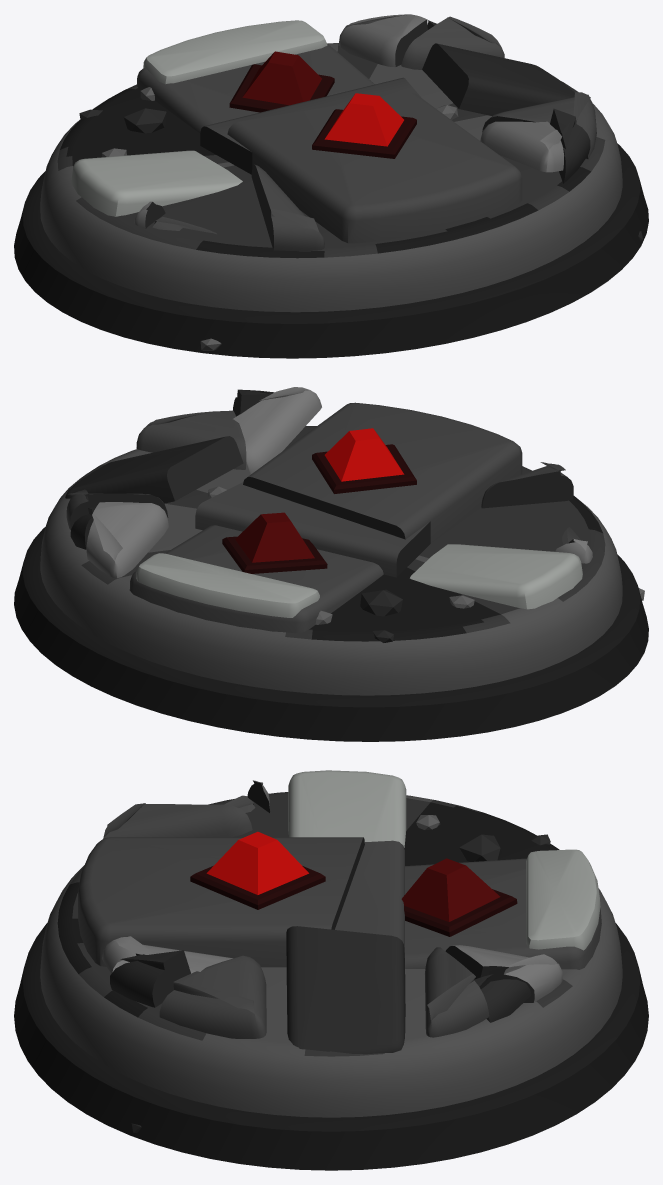
The model's file is panel_gems_wreck.glb.
3 views of the same model, one above another, from view 1: azimuth 30°, elevation 25°; view 2: azimuth 150°, elevation 25°; view 3: azimuth 270°, elevation 25° (orthographic). The views are drawn at different scales.
Parts seen in each view (by area): view 1: disc, upright, plinth, crevice, arm, arm_right, cap, upright_top, arm_mid, cushion11_b, cushion1-1, cushion-1-1_b (+9 smaller); view 2: disc, plinth, upright, crevice, upright_top, arm, arm_mid, cap, arm_right, cushion11_b, cushion1-1, cushion1-1_b (+10 smaller); view 3: disc, plinth, upright, arm_right, crevice, arm, upright_top, cap, cushion1-1_b, arm_mid, cushion-1-1_b, cushion11 (+9 smaller).
Part boxes in pixels (x1,y1,x2,y2): disc: (40,43,622,312); upright: (227,93,522,243); plinth: (14,180,648,358); crevice: (22,143,640,323); arm: (71,150,242,216); arm_right: (422,43,574,115); cap: (143,20,327,84); upright_top: (136,43,374,133); arm_mid: (200,77,422,174); cushion11_b: (339,14,427,67); cushion1-1: (480,121,564,172); cushion-1-1_b: (251,164,324,251); disc: (40,426,622,695); plinth: (14,563,648,741); upright: (243,402,522,543); crevice: (22,527,640,707); upright_top: (129,525,383,633); arm: (410,544,582,609); arm_mid: (195,482,430,577); cap: (136,553,319,617); arm_right: (65,436,243,503); cushion11_b: (86,502,168,578); cushion1-1: (233,387,321,474); cushion1-1_b: (136,410,246,469); disc: (40,792,622,1117); plinth: (14,968,648,1170); upright: (78,837,364,967); arm_right: (286,926,405,1054); crevice: (22,923,640,1131); arm: (288,770,406,847); upright_top: (405,858,601,969); cap: (526,849,600,950); cushion1-1_b: (159,955,266,1038); arm_mid: (335,840,404,957); cushion-1-1_b: (103,803,252,838); cushion11: (425,947,489,1037).
Bounding box in the file's own units: 24.85 × 6.61 × 21.58.
